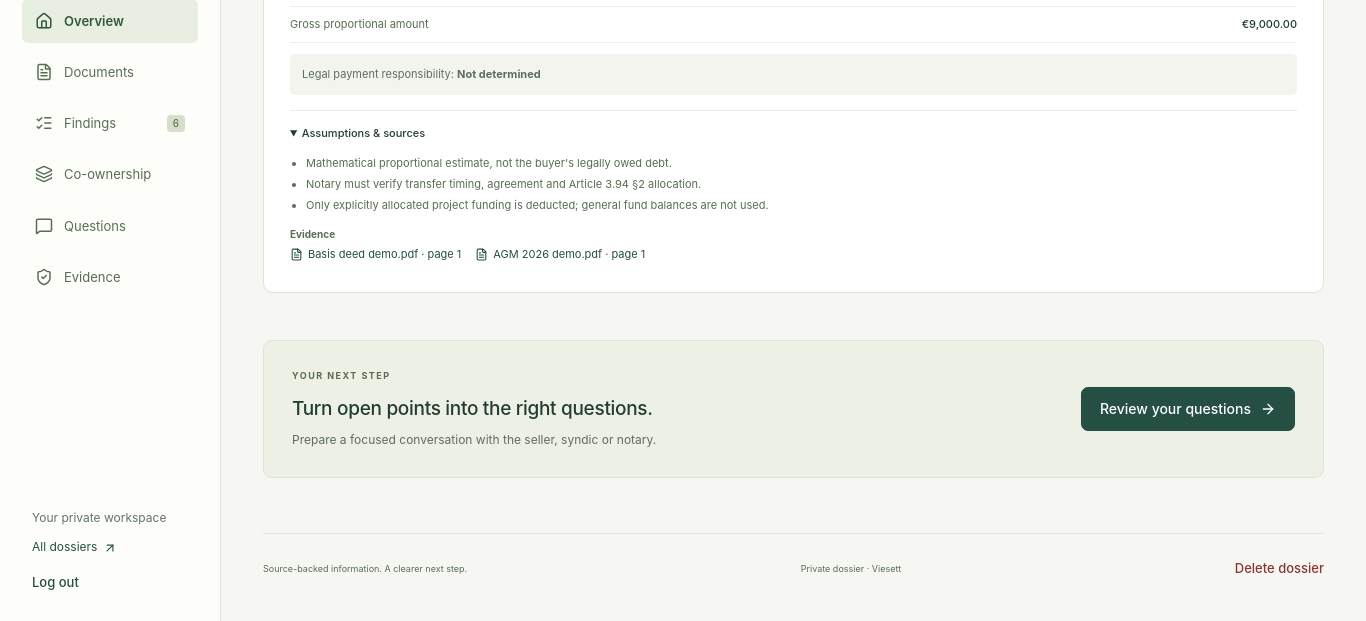
returns from a deleted open dossier to the refreshed start page
(page scrolled)
Click the button with aria-label "Delete dossier for".
click(1279, 568)  # box [1235, 554, 1324, 582]
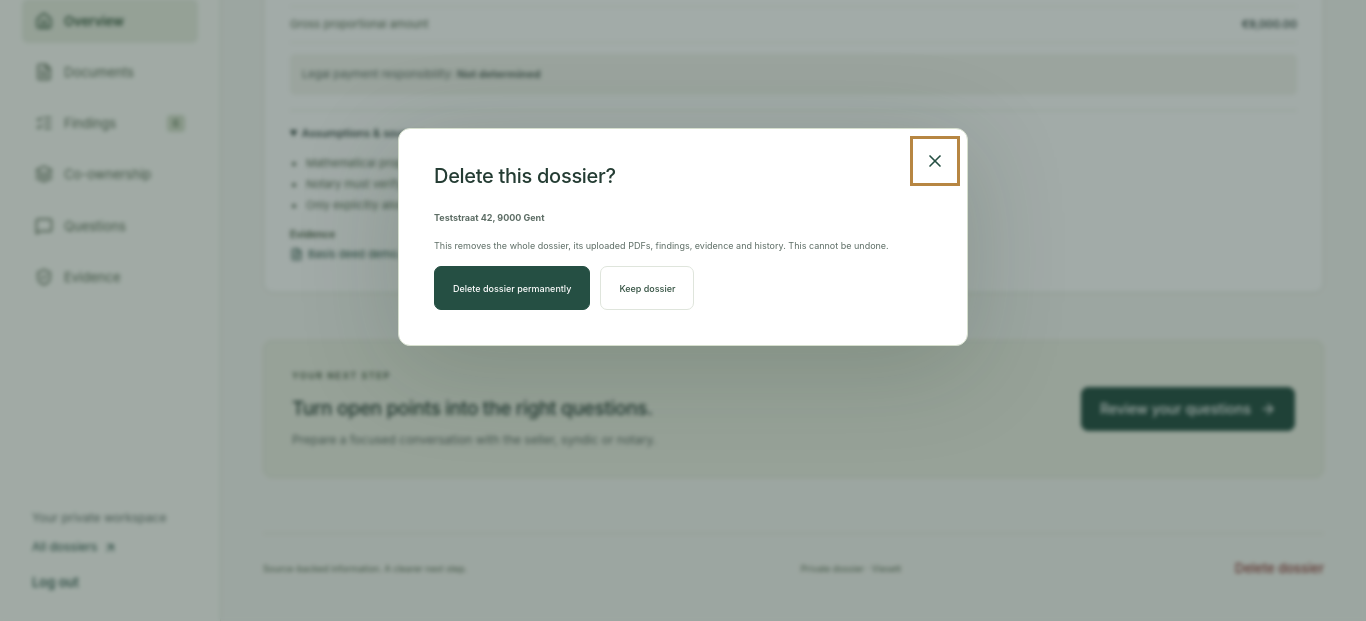
Click the button "Delete dossier permanently".
click(512, 288)  # box [434, 266, 590, 310]
(page scrolled)
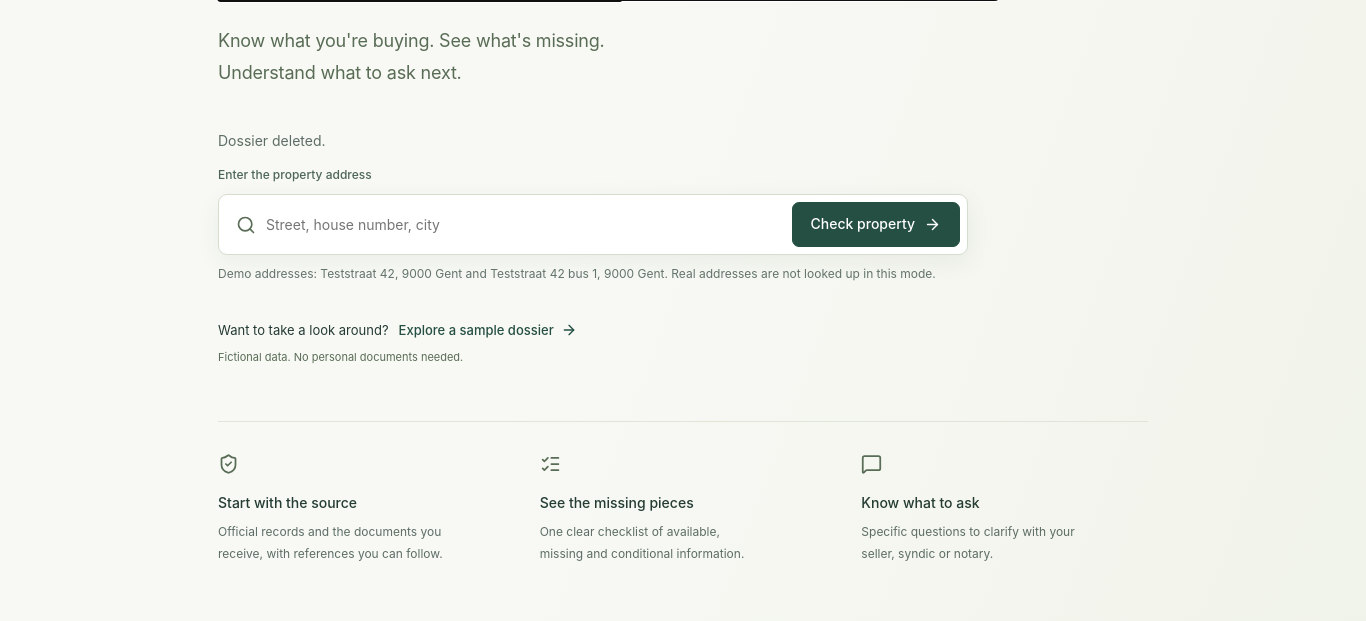
Check: the button "Check property" is shown, box [792, 202, 960, 247]
